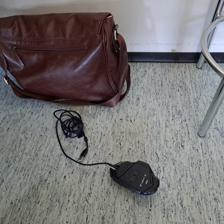mouse: (109, 160, 160, 196)
